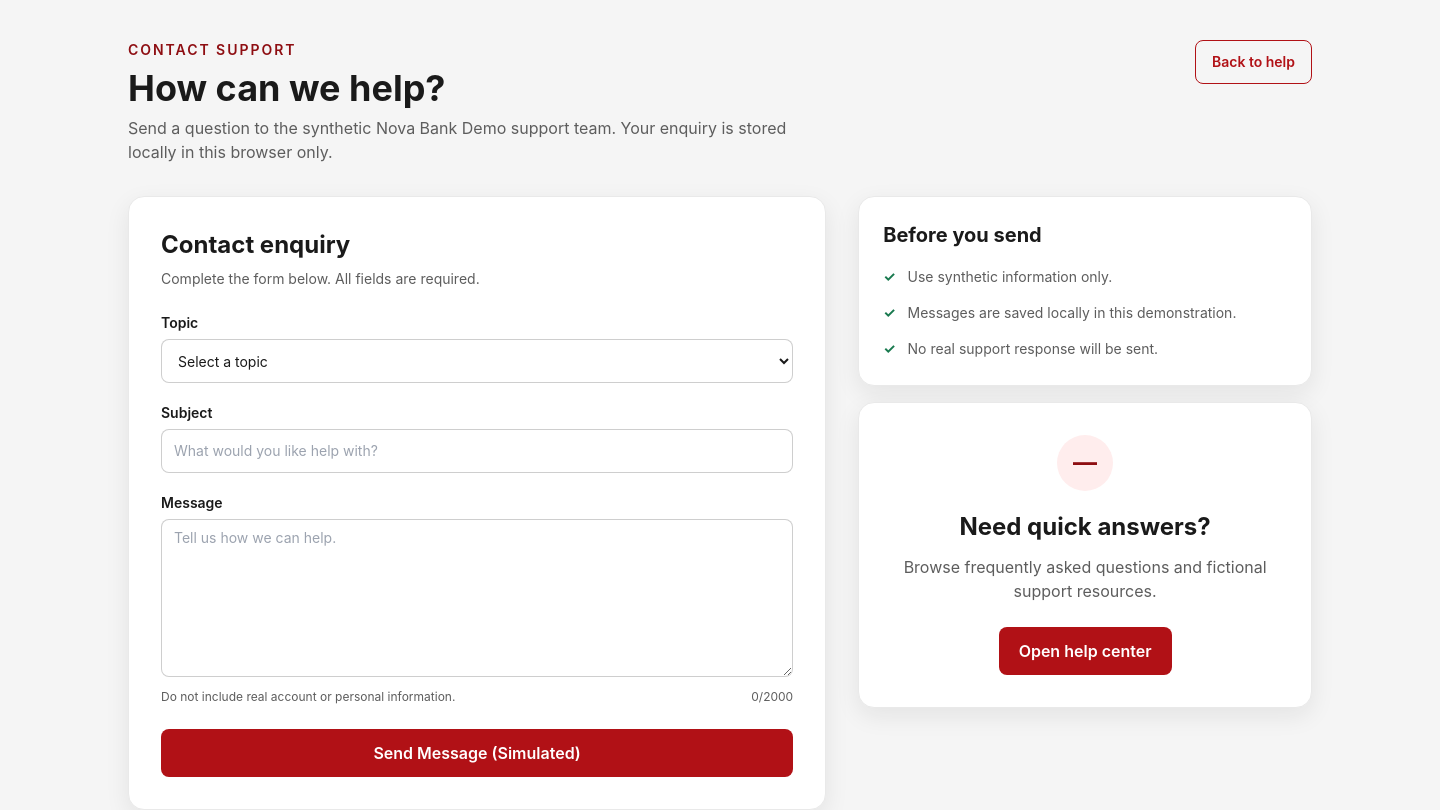
Test case: ContactPage › rejects messages shorter than the minimum length and keeps the form available
Select "Accounts" in the dropdown labelled "Topic" at (477, 361), box [161,339,793,383]
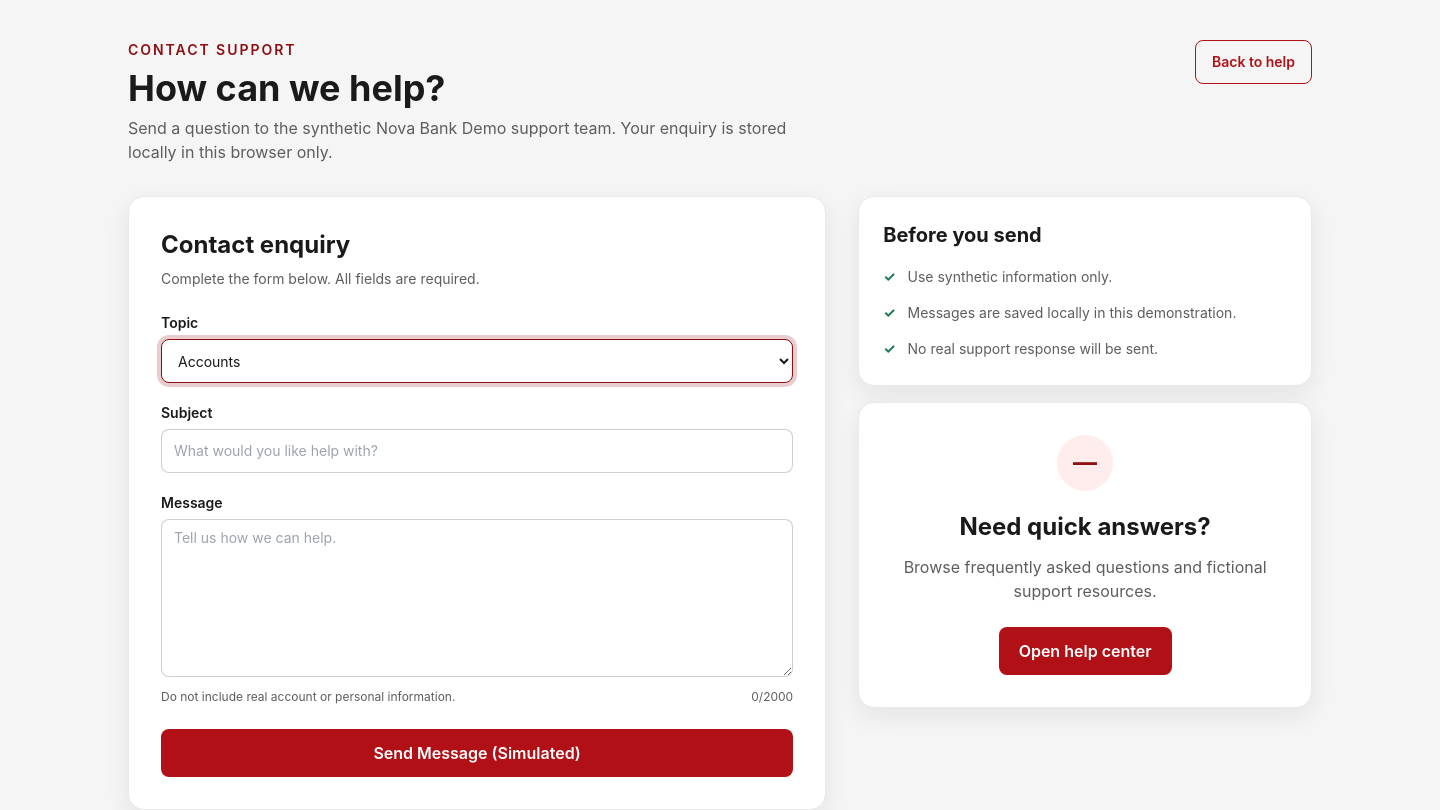
Type "Account question" into the field labelled "Subject" at (477, 451), box [161,429,793,473]
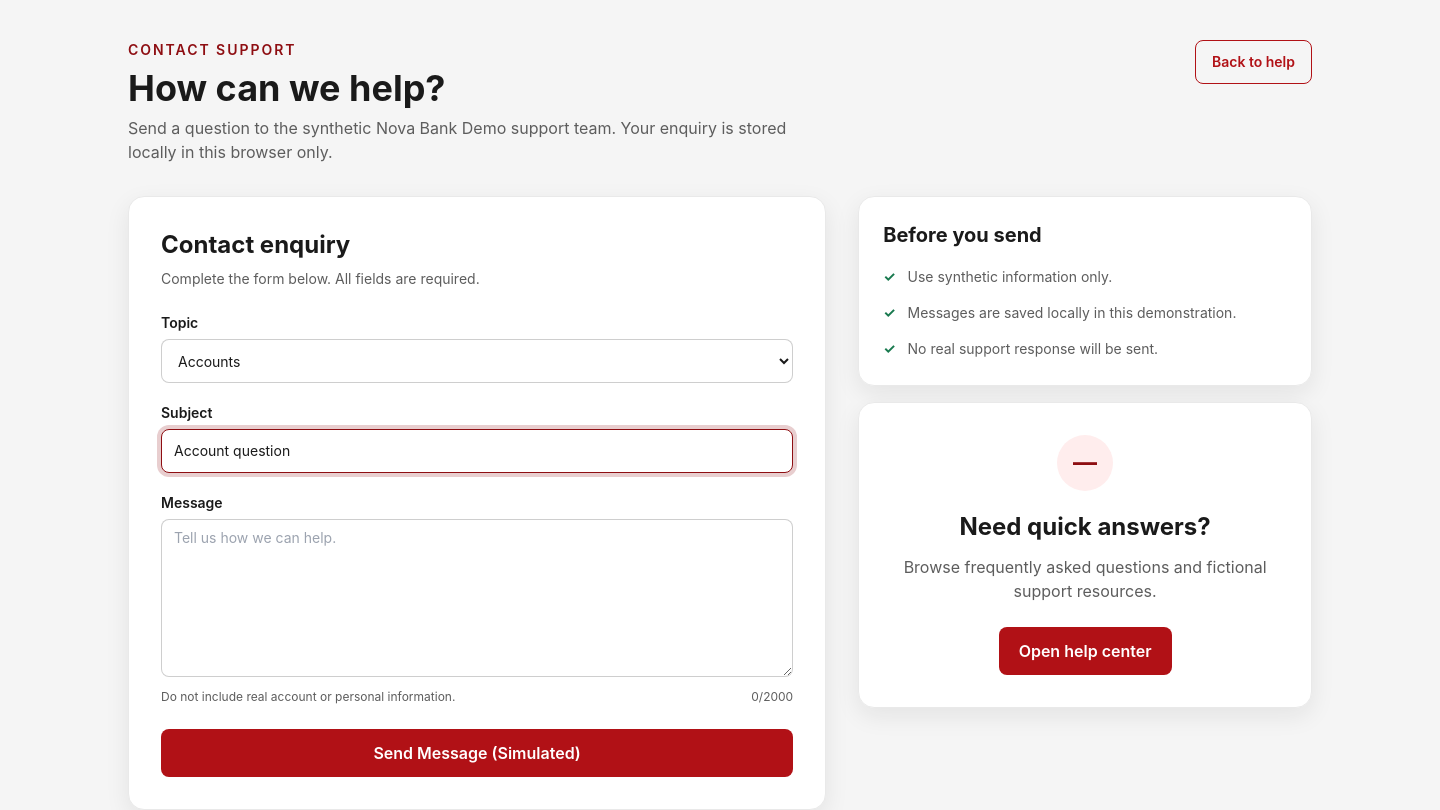
Type "Too short" into the text box labelled "Message" at (477, 598), box [161,519,793,677]
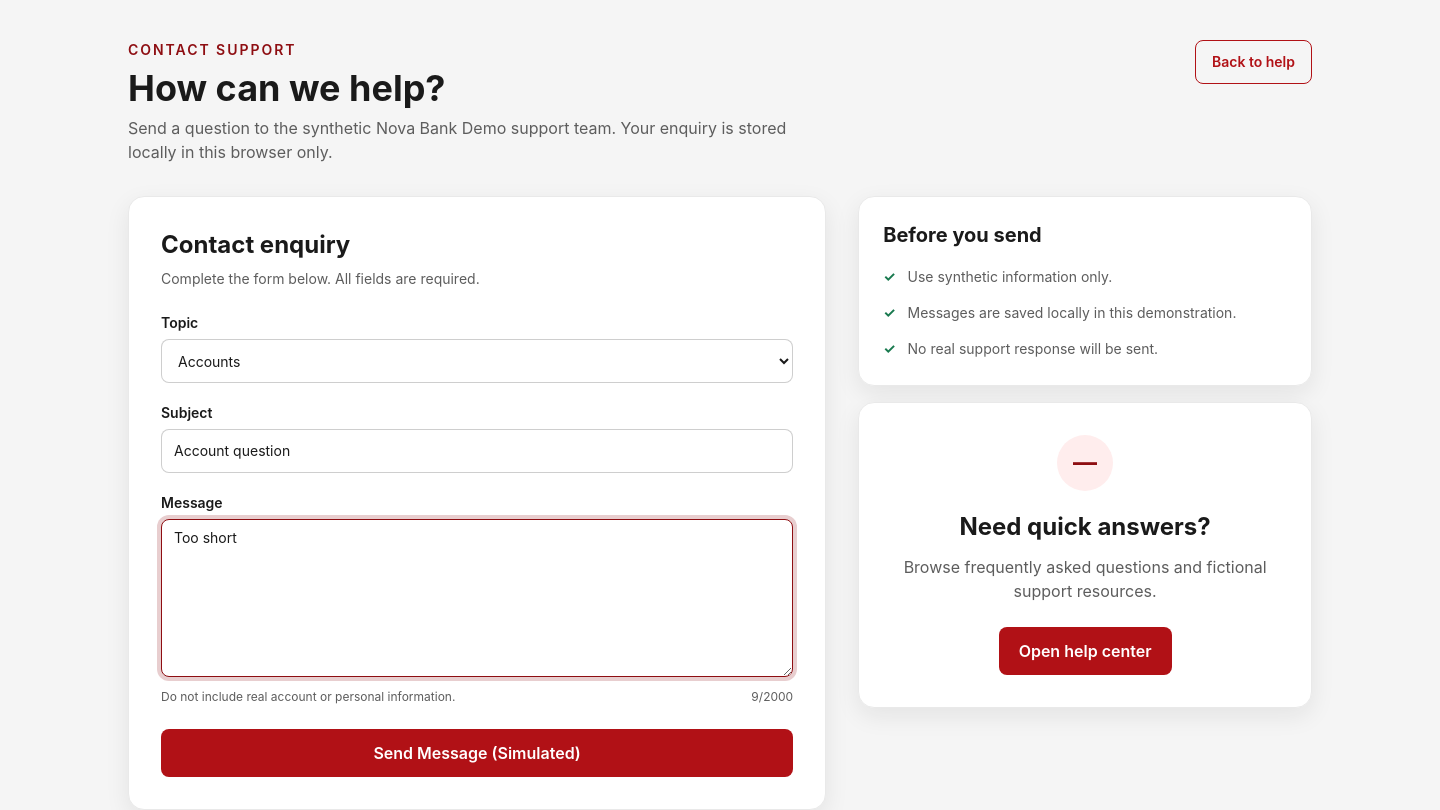
Click the button "Send Message (Simulated)" at (477, 753), box [161,729,793,777]
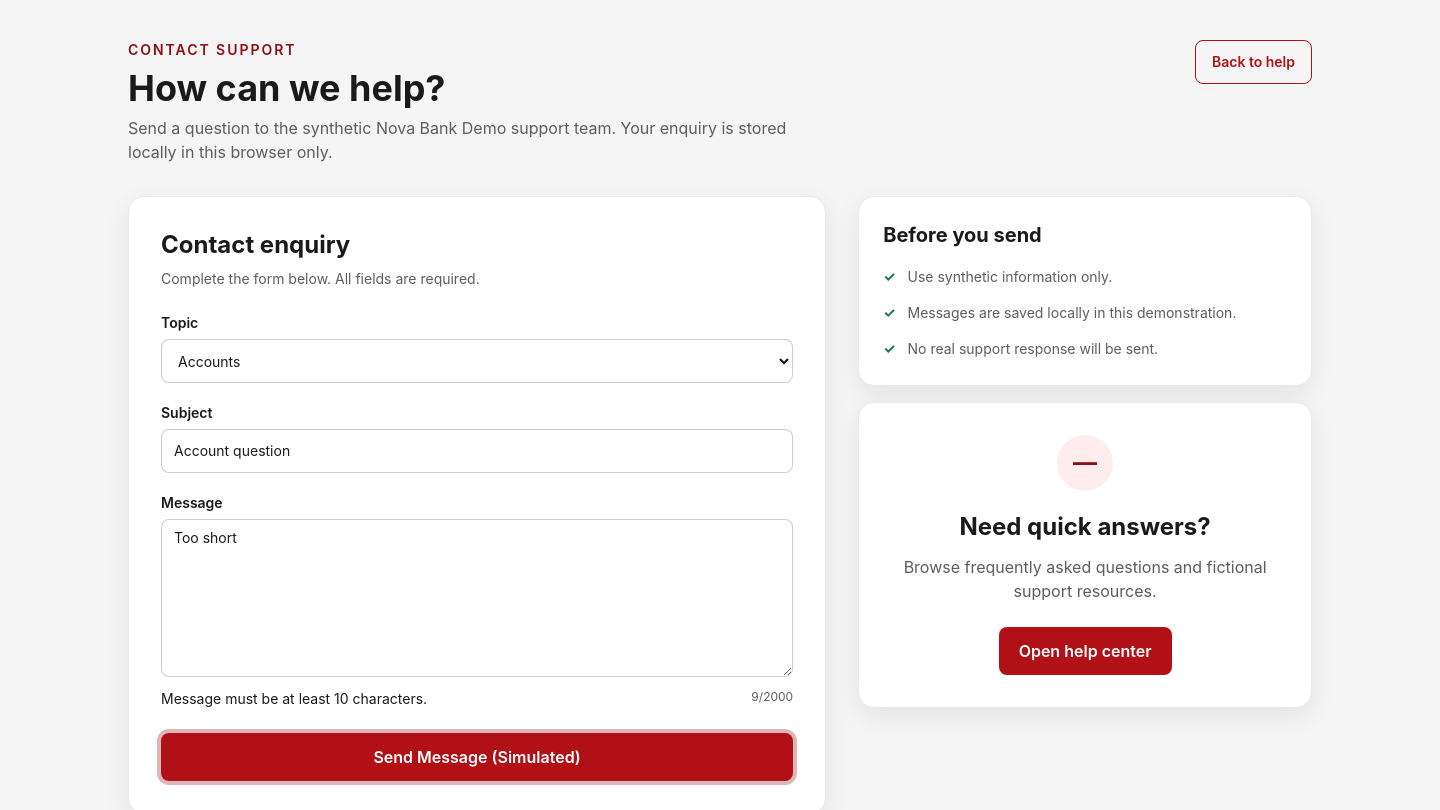
Result: the text "Message must be at least 10 characters." is shown at [161,689,427,709]
